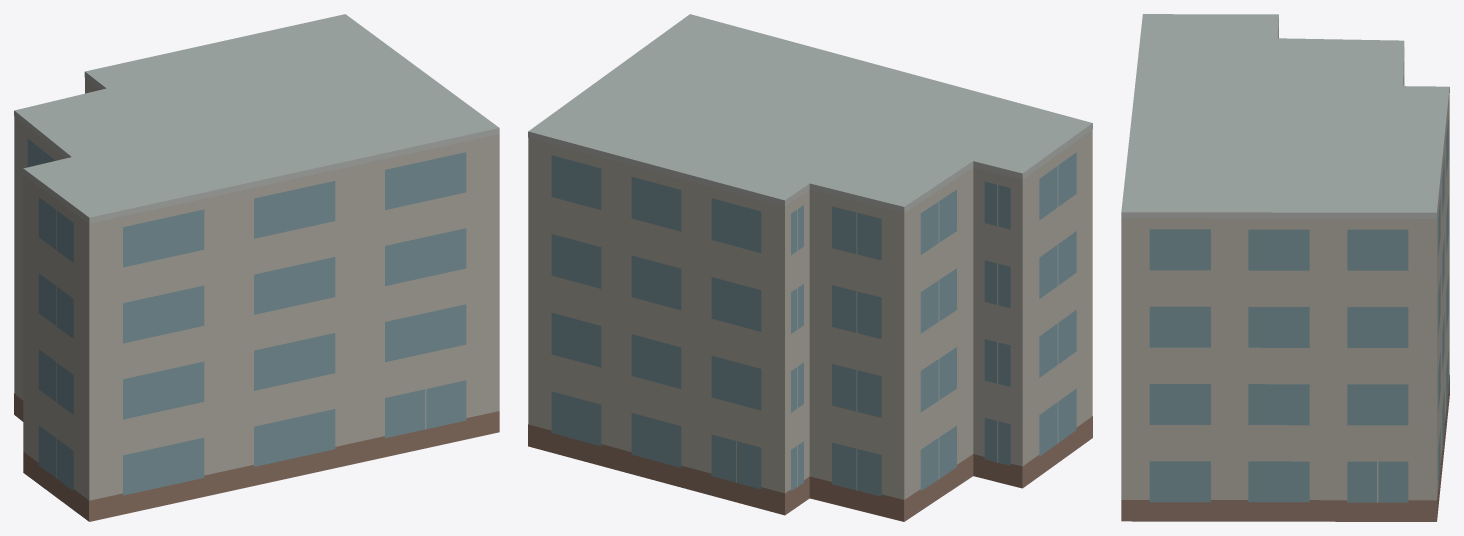
File: survey-upis-32899811.glb
3 views of the same model, side by side, from view 1: azimuth 30°, elevation 25°; view 2: azimuth 150°, elevation 25°; view 3: azimuth 270°, elevation 25° (orthographic). The views are drawn at different scales.
Parts seen in each view (by area): view 1: survey-upis-32899811.tmp; view 2: survey-upis-32899811.tmp; view 3: survey-upis-32899811.tmp.
Boxes of the visible parts, box(x1,y1,x2,y2) form: survey-upis-32899811.tmp: box(14, 14, 499, 521); survey-upis-32899811.tmp: box(528, 14, 1092, 521); survey-upis-32899811.tmp: box(1121, 14, 1449, 521).
Bounding box in the file's own units: 16.97 × 12.3 × 11.85.
